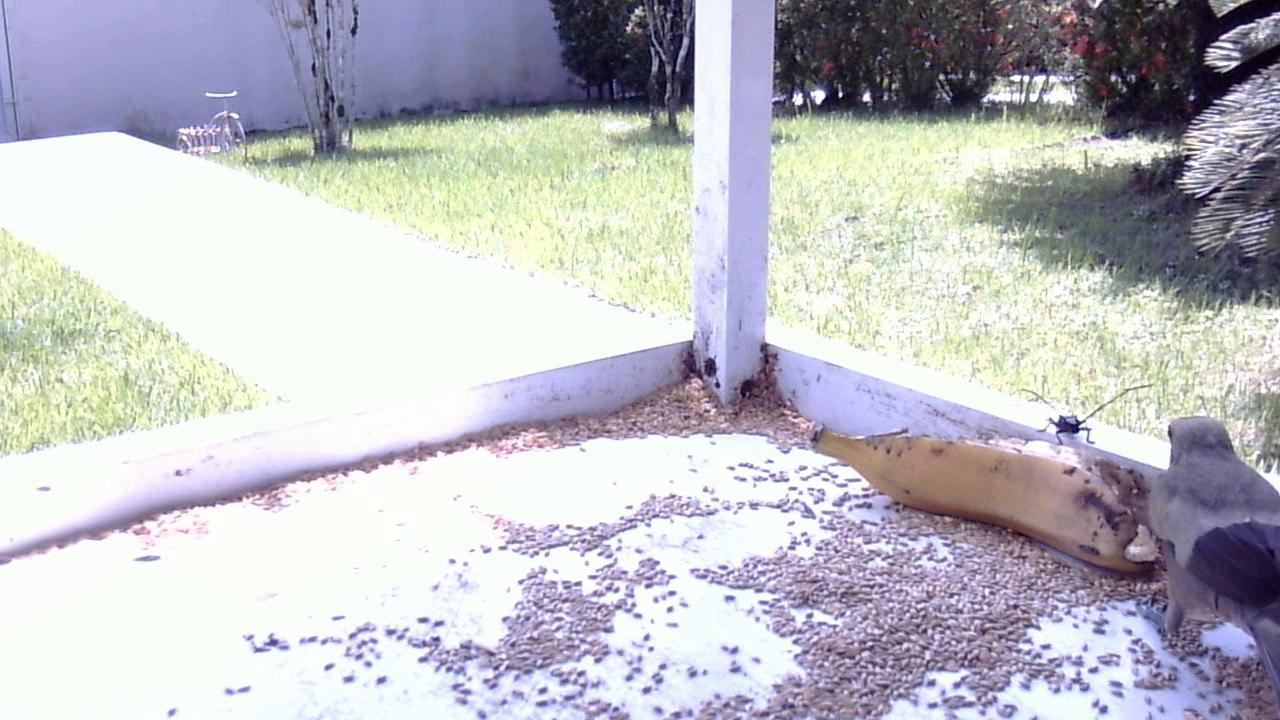sanhaco_do_coqueiro: (1087, 411, 1278, 710)
